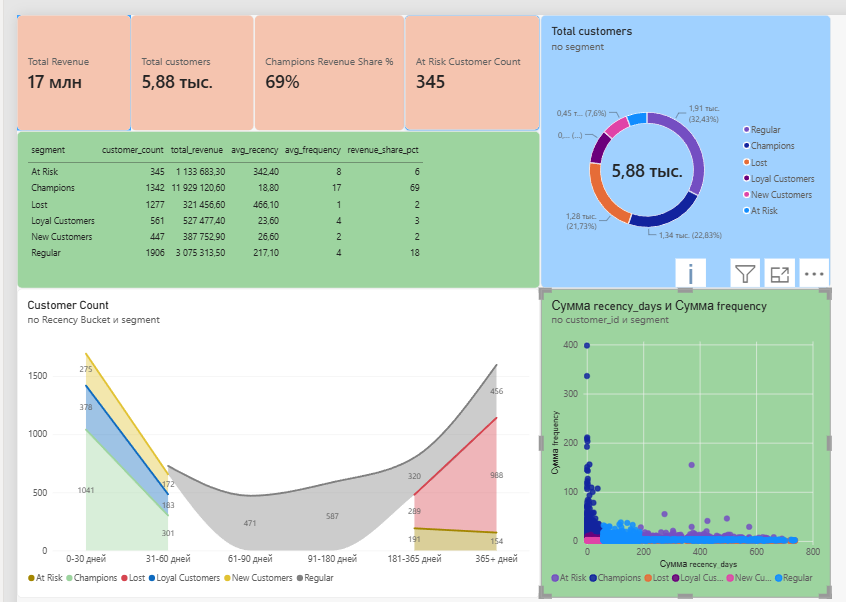

The page's visual inventory and layout, read from the dashboard file:
{"tool":"powerbi","page":{"name":"Страница 1","canvas":[1920,1080],"ordinal":0},"visuals":[{"type":"cardVisual","fields":{"Data":["segment_summary.Total Revenue"]},"box":[0,0,182.9,185.7],"z":0},{"type":"cardVisual","fields":{"Data":["segment_summary.Champions Revenue Share %"]},"box":[380,0,240,185.7],"z":1},{"type":"cardVisual","fields":{"Data":["segment_summary.Total customers"]},"box":[182.9,0,197.1,185.7],"z":2},{"type":"cardVisual","fields":{"Data":["segment_summary.At Risk Customer Count"]},"box":[620,0,217.1,185.7],"z":3},{"type":"donutChart","fields":{"Category":["segment_summary.segment"],"Y":["segment_summary.Total customers"]},"box":[837.1,0,464.3,437.1],"z":4},{"type":"scatterChart","fields":{"Category":["rfm_customers.customer_id"],"Series":["rfm_customers.segment"],"X":["Sum(rfm_customers.recency_days)"],"Y":["Sum(rfm_customers.frequency)"]},"box":[837.1,437.1,464.3,494.3],"z":6},{"type":"tableEx","fields":{"Values":["segment_summary.segment","segment_summary.customer_count","segment_summary.total_revenue","segment_summary.avg_recency","segment_summary.avg_frequency","segment_summary.revenue_share_pct"]},"box":[0,185.7,837.1,251.4],"z":7},{"type":"stackedAreaChart","fields":{"Category":["rfm_customers.Recency Bucket"],"Series":["rfm_customers.segment"],"Y":["rfm_customers.Customer Count"]},"box":[0,437,837,494],"z":8}]}

Visuals, with their boxes on the page's 1920x1080 design canvas (x1, y1, x2, y2). These are canvas units, not pixel positions in the 846x602 screenshot, which may show the page scaled, cropped or inside an application window:
cardVisual - segment_summary.Total Revenue: bbox(0, 0, 183, 186)
cardVisual - segment_summary.Champions Revenue Share %: bbox(380, 0, 620, 186)
cardVisual - segment_summary.Total customers: bbox(183, 0, 380, 186)
cardVisual - segment_summary.At Risk Customer Count: bbox(620, 0, 837, 186)
donutChart - segment_summary.segment x segment_summary.Total customers: bbox(837, 0, 1301, 437)
scatterChart - rfm_customers.customer_id x rfm_customers.segment: bbox(837, 437, 1301, 931)
tableEx - segment_summary.segment x segment_summary.customer_count: bbox(0, 186, 837, 437)
stackedAreaChart - rfm_customers.Recency Bucket x rfm_customers.segment: bbox(0, 437, 837, 931)
